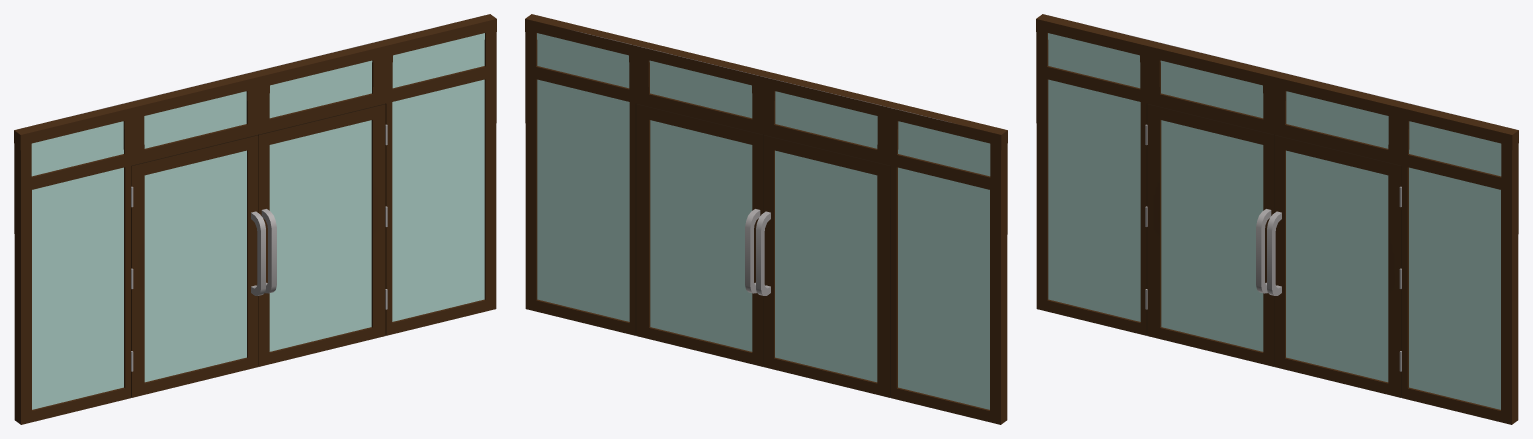
Rendered from doubledoors.fbx.
3 renders of one model, left to right at view 1: azimuth 30°, elevation 25°; view 2: azimuth 150°, elevation 25°; view 3: azimuth 330°, elevation 25°, orthographic.
Visible parts, largest first — view 1: glass, doubledoors; view 2: glass, doubledoors; view 3: glass, doubledoors.
Boxes of the visible parts, x1,y1,x2,y2 form: glass: [31, 33, 484, 409]; doubledoors: [14, 14, 496, 424]; glass: [537, 33, 990, 409]; doubledoors: [525, 14, 1007, 424]; glass: [1048, 33, 1501, 409]; doubledoors: [1036, 14, 1518, 424].
Size of the model in its own units: 379 by 220 by 36.89.
Materials: 2 (1 with a texture image).
